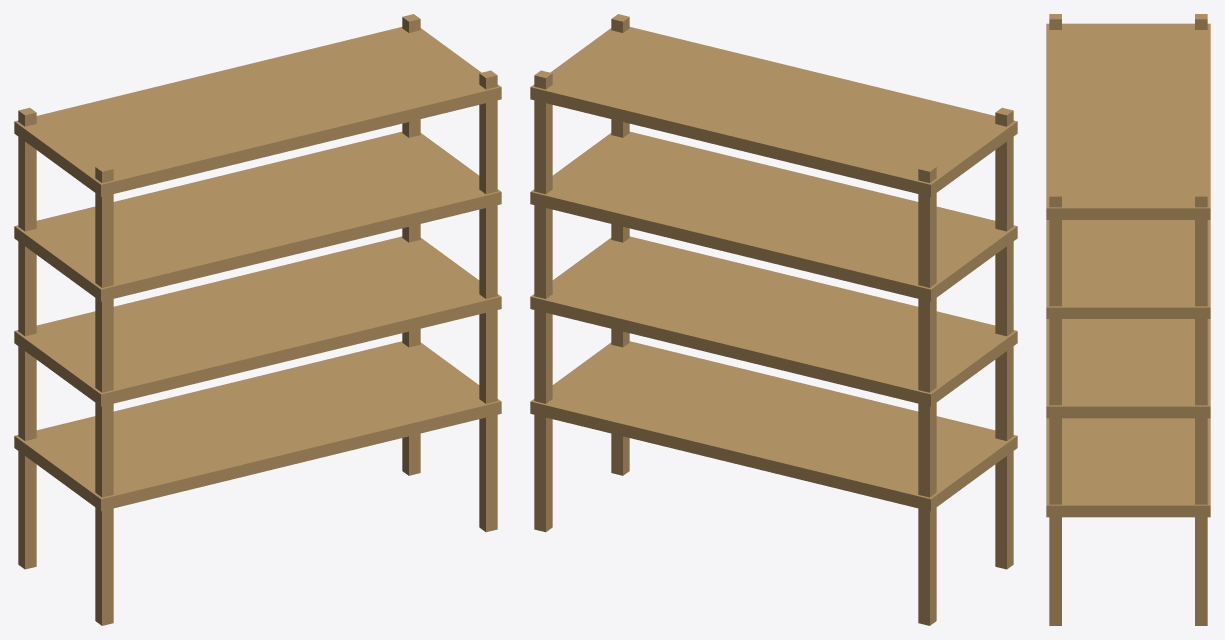
Rendered from warehouse_rack_bay_concept.obj.
3 renders of one model, left to right at view 1: azimuth 30°, elevation 25°; view 2: azimuth 150°, elevation 25°; view 3: azimuth 270°, elevation 25°, orthographic. The views are drawn at different scales.
Parts seen in each view (by area): view 1: shelf, upright; view 2: shelf, upright; view 3: shelf, upright.
Part boxes in pixels (x1,y1,x2,y2): shelf: (14,27,501,511); upright: (18,14,497,625); shelf: (530,27,1017,511); upright: (534,14,1013,625); shelf: (1046,23,1210,517); upright: (1049,14,1207,625).
Size of the model in its own units: 2.4 by 2.6 by 0.9.
